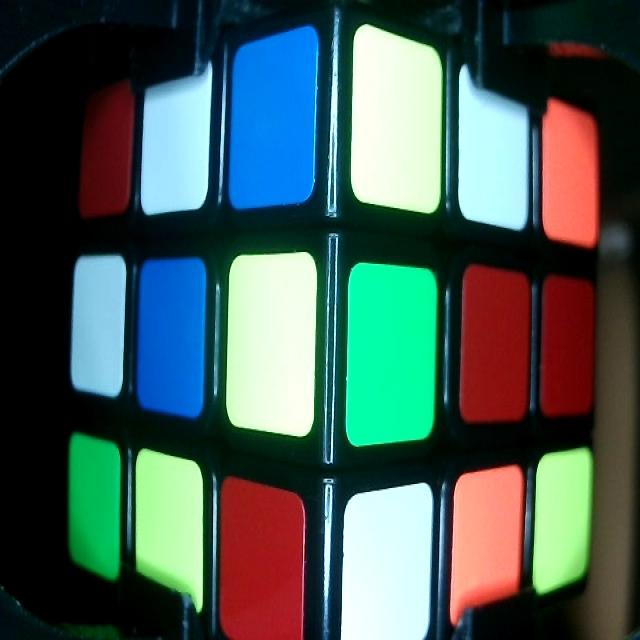b: (237, 50, 310, 189), (144, 271, 202, 404)
g: (349, 284, 435, 416), (71, 452, 119, 562)
o: (542, 108, 596, 231), (454, 493, 520, 589)
r: (221, 502, 302, 636), (467, 285, 527, 401), (545, 290, 594, 400), (85, 103, 128, 203)
w: (346, 512, 429, 626), (462, 84, 526, 210), (147, 82, 207, 196), (75, 268, 120, 388)
y: (355, 46, 440, 193), (234, 270, 314, 392), (137, 477, 204, 592), (539, 470, 592, 565)
